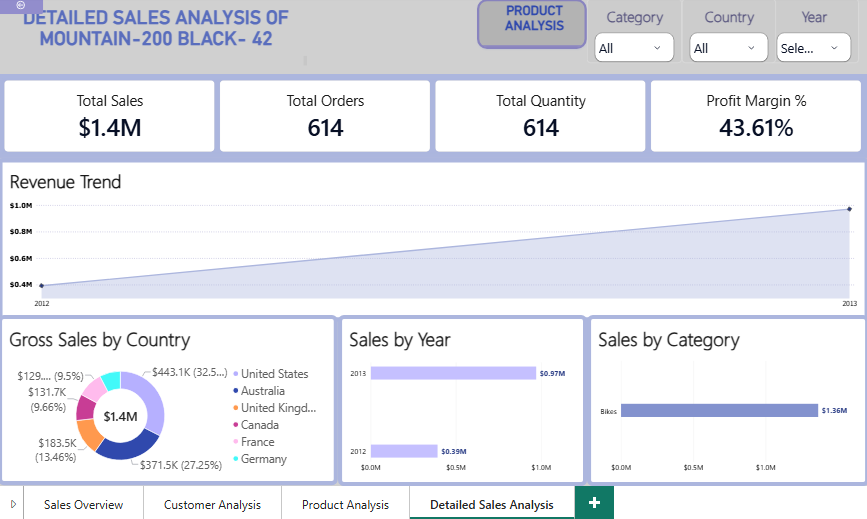

What the dashboard file says about the page in this screenshot:
{"tool":"powerbi","page":{"name":"Detailed Sales Analysis","canvas":[1920,1080],"ordinal":3},"visuals":[{"type":"actionButton","title":"PRODUCT ANALYSIS","box":[1055.8,6.6,242.4,110.2],"z":2},{"type":"textbox","box":[15.4,22,665.6,149.9],"z":3},{"type":"listSlicer","fields":{"Values":["DimDate.Year"]},"box":[1699.3,6.6,198.4,141.1],"z":4},{"type":"listSlicer","fields":{"Values":["DimCustomers.Country"]},"box":[1507.6,6.6,207.2,141.1],"z":5},{"type":"listSlicer","fields":{"Values":["DimProducts.Category"]},"box":[1298.2,6.6,209.4,141.1],"z":6},{"type":"actionButton","box":[0,0,100,40],"z":8},{"type":"cardVisual","fields":{"Data":["MeasuesTable.Total Sales","MeasuesTable.Total Orders","MeasuesTable.Total Quantity","MeasuesTable.Profit Margin %"]},"box":[0,171.9,1919.8,185.1],"z":9},{"type":"lineChart","title":"Revenue Trend","fields":{"Category":["DimDate.Year","DimDate.Month Name"],"Y":["MeasuesTable.Total Sales"]},"box":[0,357.1,1919.8,361.5],"z":10},{"type":"barChart","title":"Sales by Category","fields":{"Category":["DimProducts.Category"],"Y":["MeasuesTable.Total Sales"]},"box":[1298.2,703.1,621.6,376.9],"z":11},{"type":"donutChart","title":"Gross Sales by Country","fields":{"Category":["DimCustomers.Country"],"Y":["MeasuesTable.Total Sales"]},"box":[0,703.1,749.4,374.7],"z":12},{"type":"barChart","title":"Sales by Year","fields":{"Category":["DimDate.Year"],"Y":["MeasuesTable.Total Sales"]},"box":[749.4,703.1,548.8,376.9],"z":13}]}

Visuals, with their boxes on the page's 1920x1080 design canvas (x1, y1, x2, y2). These are canvas units, not pixel positions in the 867x519 screenshot, which may show the page scaled, cropped or inside an application window:
"PRODUCT ANALYSIS" actionButton: box(1056, 7, 1298, 117)
textbox: box(15, 22, 681, 172)
listSlicer - DimDate.Year: box(1699, 7, 1898, 148)
listSlicer - DimCustomers.Country: box(1508, 7, 1715, 148)
listSlicer - DimProducts.Category: box(1298, 7, 1508, 148)
actionButton: box(0, 0, 100, 40)
cardVisual - MeasuesTable.Total Sales x MeasuesTable.Total Orders: box(0, 172, 1920, 357)
"Revenue Trend" lineChart: box(0, 357, 1920, 719)
"Sales by Category" barChart: box(1298, 703, 1920, 1080)
"Gross Sales by Country" donutChart: box(0, 703, 749, 1078)
"Sales by Year" barChart: box(749, 703, 1298, 1080)
